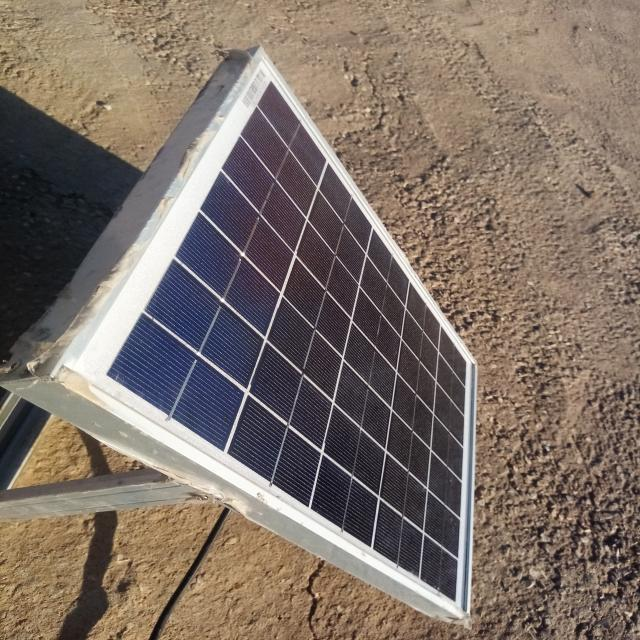Normal Solar Panel: (49, 51, 476, 620)
